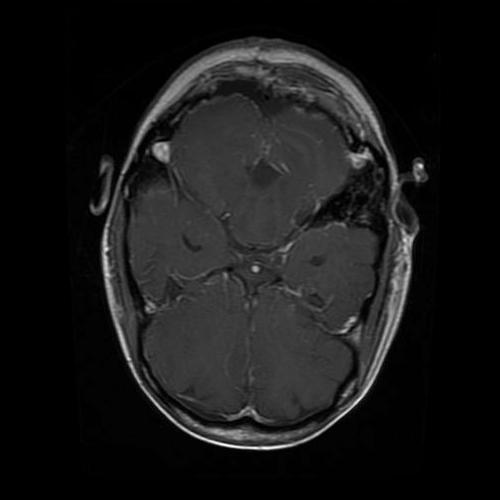Tumour-Glioma: (292, 154, 386, 227)
